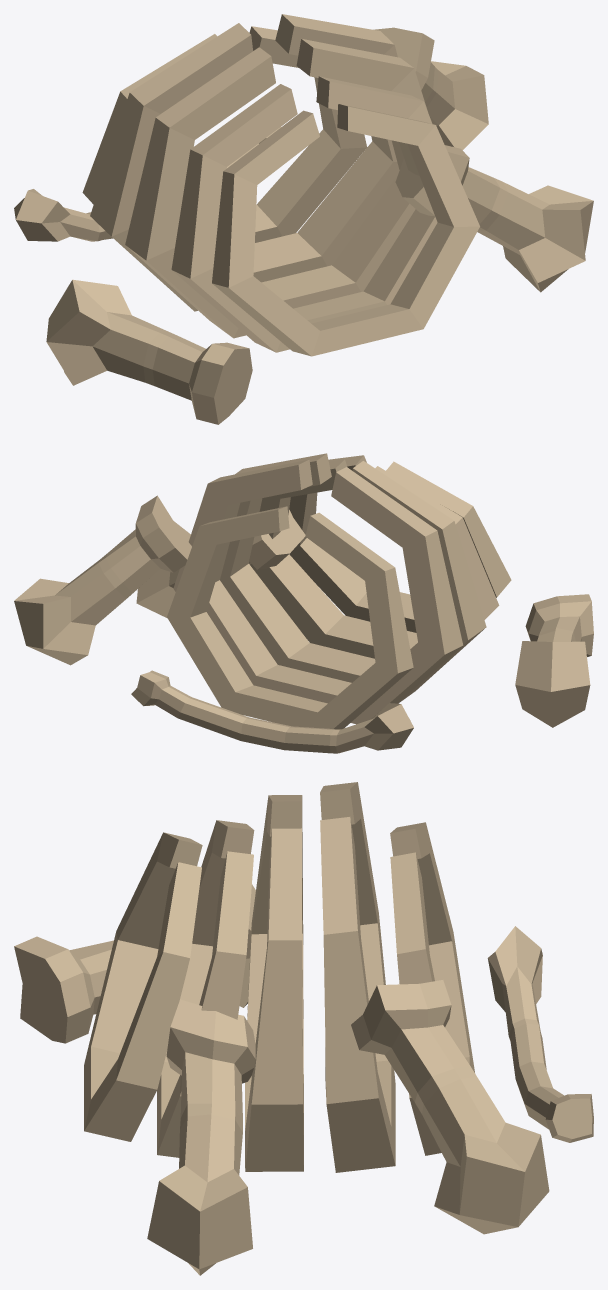
The model's file is Crypt_Bones.glb.
The picture shows the model from 3 angles, top to bottom: view 1: azimuth 30°, elevation 25°; view 2: azimuth 150°, elevation 25°; view 3: azimuth 270°, elevation 25°; orthographic projection. The views are drawn at different scales.
Visible parts, largest first — view 1: BonePile; view 2: BonePile; view 3: BonePile.
Part boxes in pixels (x1,y1,x2,y2): BonePile: (14, 14, 593, 424); BonePile: (14, 453, 593, 753); BonePile: (14, 782, 593, 1275).
Size of the model in its own units: 2.15 by 1.07 by 1.64.
